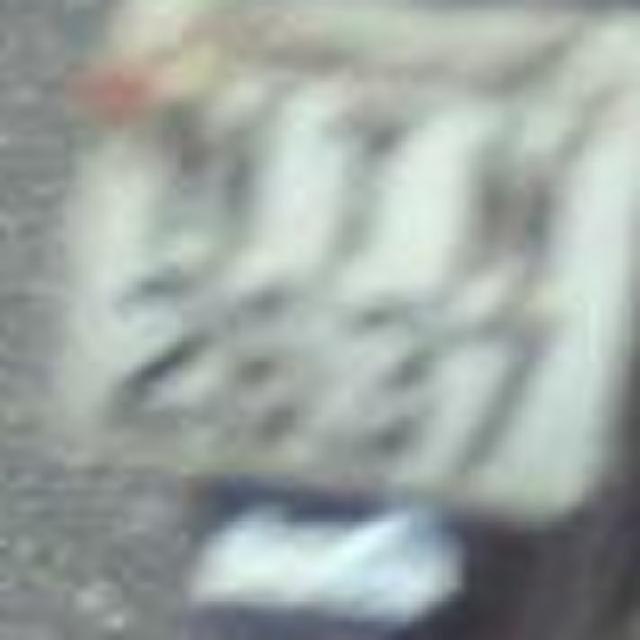2: (60, 268, 272, 448)
7: (388, 292, 580, 492)
B: (444, 104, 584, 308)
I: (284, 92, 416, 292)
N: (124, 80, 284, 272)
